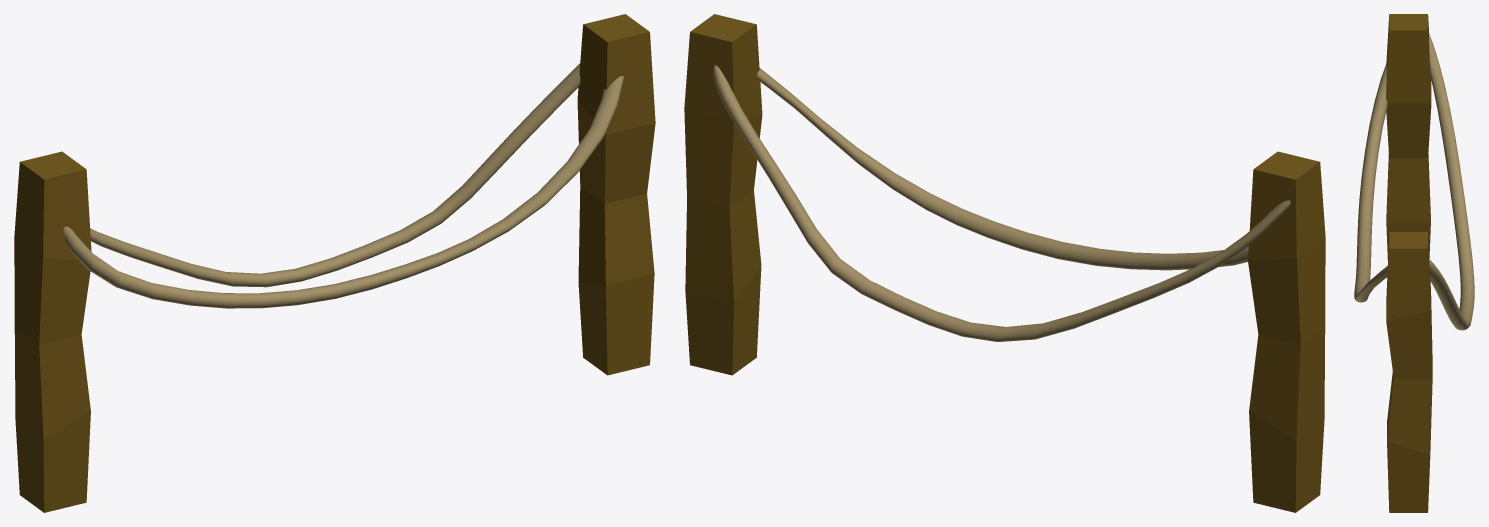
Rendered from LunaparkCit.fbx.
The picture shows the model from 3 angles, left to right: view 1: azimuth 30°, elevation 25°; view 2: azimuth 150°, elevation 25°; view 3: azimuth 270°, elevation 25°; orthographic projection. The views are drawn at different scales.
Parts seen in each view (by area): view 1: LunaparkCit; view 2: LunaparkCit; view 3: LunaparkCit.
Part boxes in pixels (x1,y1,x2,y2): LunaparkCit: (14, 14, 655, 512); LunaparkCit: (684, 14, 1325, 512); LunaparkCit: (1354, 14, 1474, 512).
Bounding box in the file's own units: 215 × 111 × 45.99.
